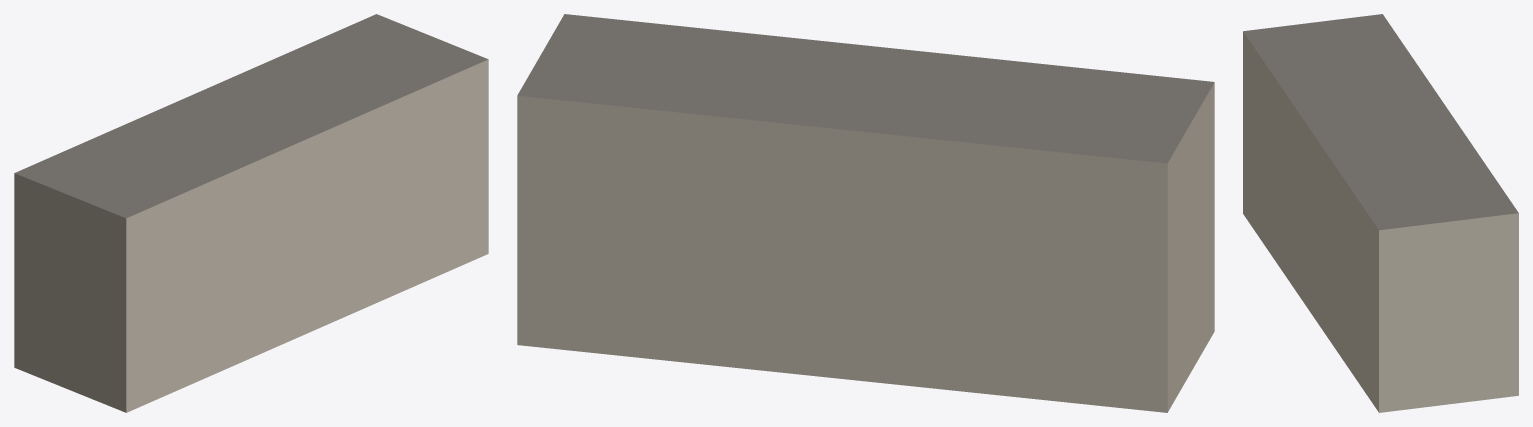
3 views of the same model, side by side, from view 1: azimuth 30°, elevation 25°; view 2: azimuth 150°, elevation 25°; view 3: azimuth 270°, elevation 25° (orthographic). The views are drawn at different scales.
Visible parts, largest first — view 1: HP-w446937289; view 2: HP-w446937289; view 3: HP-w446937289.
Boxes of the visible parts, x1,y1,x2,y2 form: HP-w446937289: (14, 14, 488, 412); HP-w446937289: (517, 14, 1214, 412); HP-w446937289: (1243, 14, 1518, 412).
Bounding box in the file's own units: 45.73 × 18 × 24.64.
